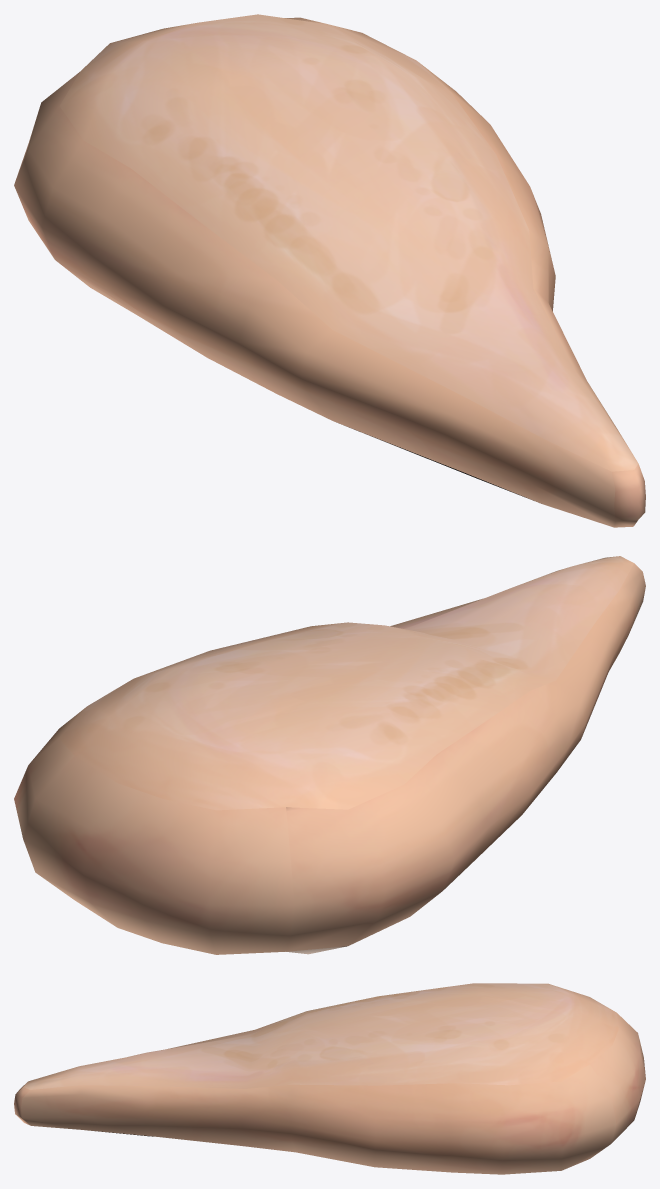
File: Chicken_Breast_Whole_MDL.fbx
3 views of the same model, one above another, from view 1: azimuth 30°, elevation 25°; view 2: azimuth 150°, elevation 25°; view 3: azimuth 270°, elevation 25° (orthographic). The views are drawn at different scales.
Visible parts, largest first — view 1: chicken_breast; view 2: chicken_breast; view 3: chicken_breast.
Boxes of the visible parts, x1,y1,x2,y2 form: chicken_breast: (14, 14, 645, 527); chicken_breast: (14, 556, 645, 954); chicken_breast: (14, 983, 645, 1174).
Bounding box in the file's own units: 6.04 × 2.92 × 12.35.
